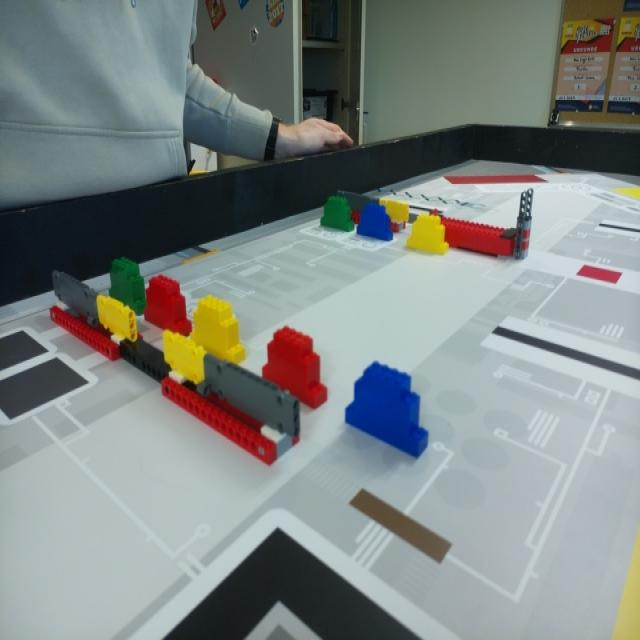blau: (348, 360, 428, 457), (360, 206, 391, 241)
gruen: (106, 256, 145, 311), (320, 195, 353, 232)
rot: (263, 325, 327, 409), (145, 274, 193, 337)
yellow: (194, 294, 246, 360), (407, 216, 448, 255)
